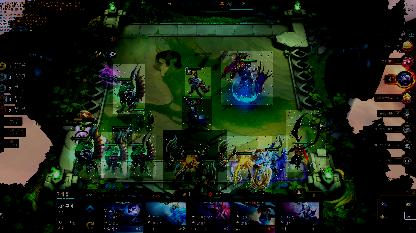1_daeja: (258, 136, 288, 180)
1_shiohyu: (101, 132, 127, 178), (128, 134, 156, 176)
1_soraka: (112, 126, 132, 144)
1_swain: (286, 110, 326, 172)
2_idas: (163, 130, 227, 190), (218, 136, 272, 194)
2_shiohyu: (70, 120, 108, 180), (113, 64, 145, 114)
2_sylas: (185, 67, 211, 99)
2_vladimir: (182, 96, 212, 132)
3_syfen: (221, 51, 273, 105)
jade: (128, 109, 156, 131)
